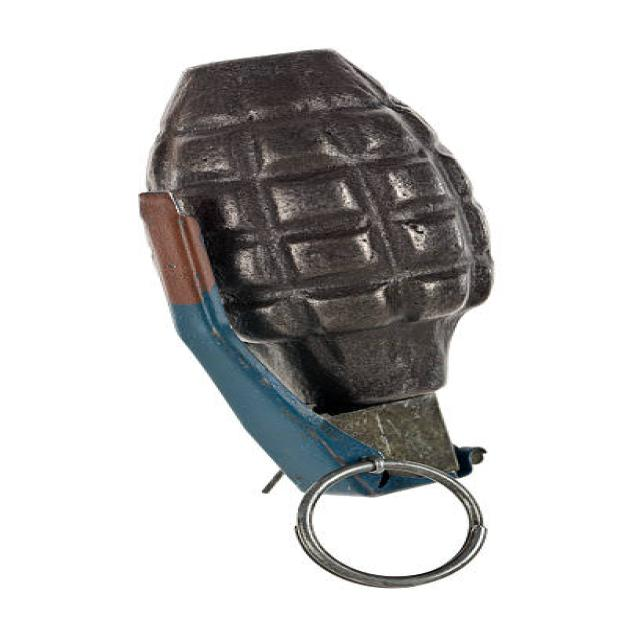grenade: (125, 50, 504, 599)
